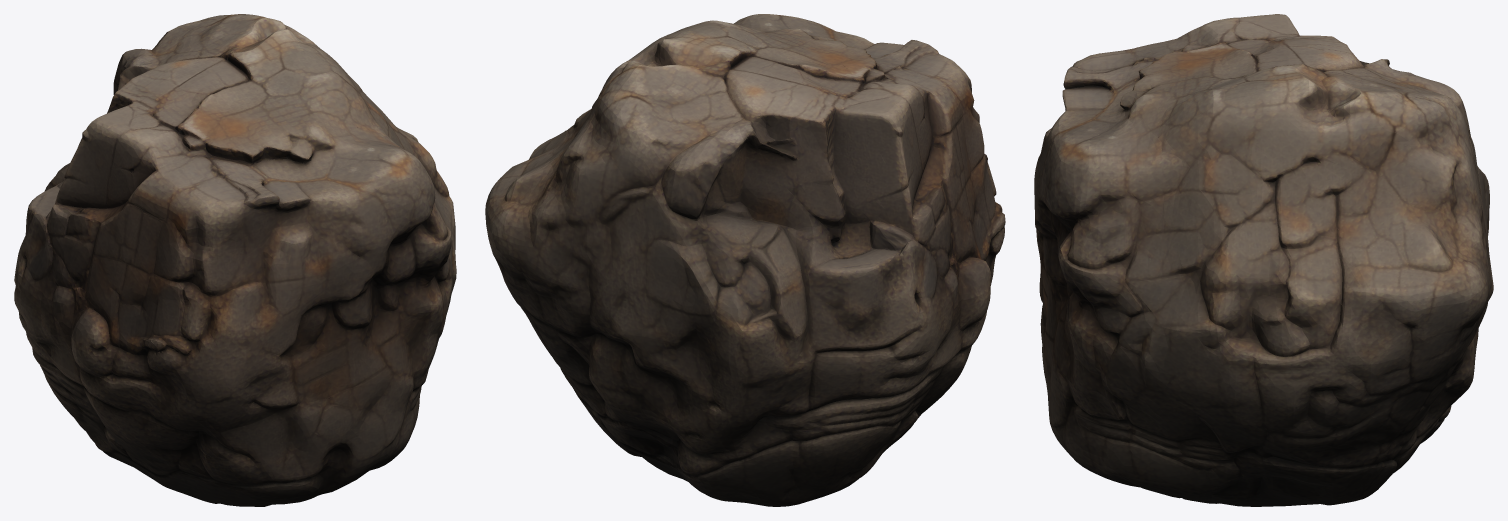
File: rock_3d_model.glb
The picture shows the model from 3 angles, left to right: view 1: azimuth 30°, elevation 25°; view 2: azimuth 150°, elevation 25°; view 3: azimuth 270°, elevation 25°; orthographic projection. The views are drawn at different scales.
Parts seen in each view (by area): view 1: world; view 2: world; view 3: world.
Boxes of the visible parts, x1,y1,x2,y2 form: world: (14,14,456,506); world: (485,14,1005,506); world: (1034,14,1493,506).
Size of the model in its own units: 0.9953 by 0.9727 by 0.9316.
Materials: 1 (1 with a texture image).
